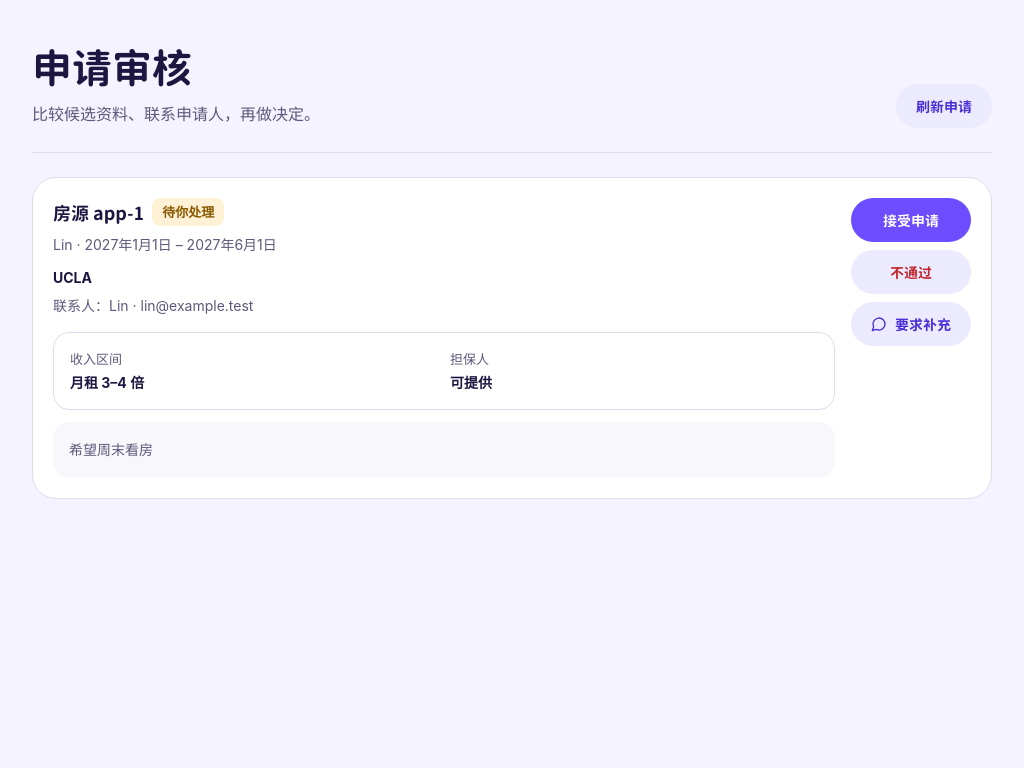
Test: keeps a successful reject visible when refreshing the list fails
Click the button "不通过" at (911, 272), box [851, 250, 971, 294]
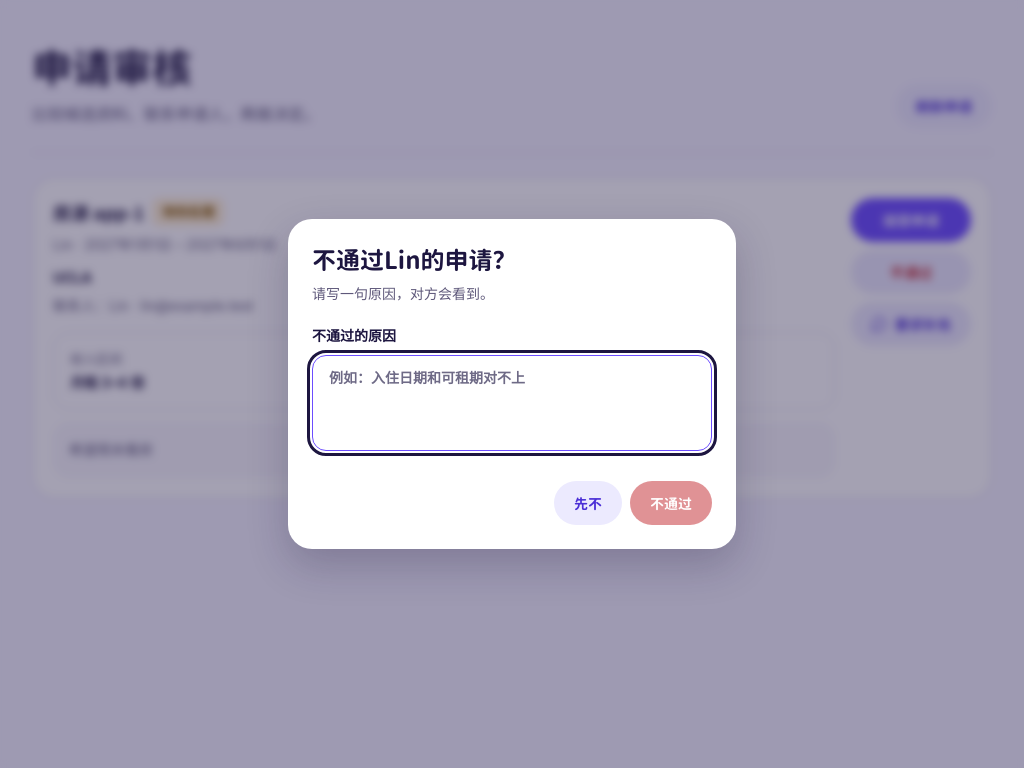
Type "入住时间不合适" into the text box at (512, 403), box [312, 355, 712, 451]
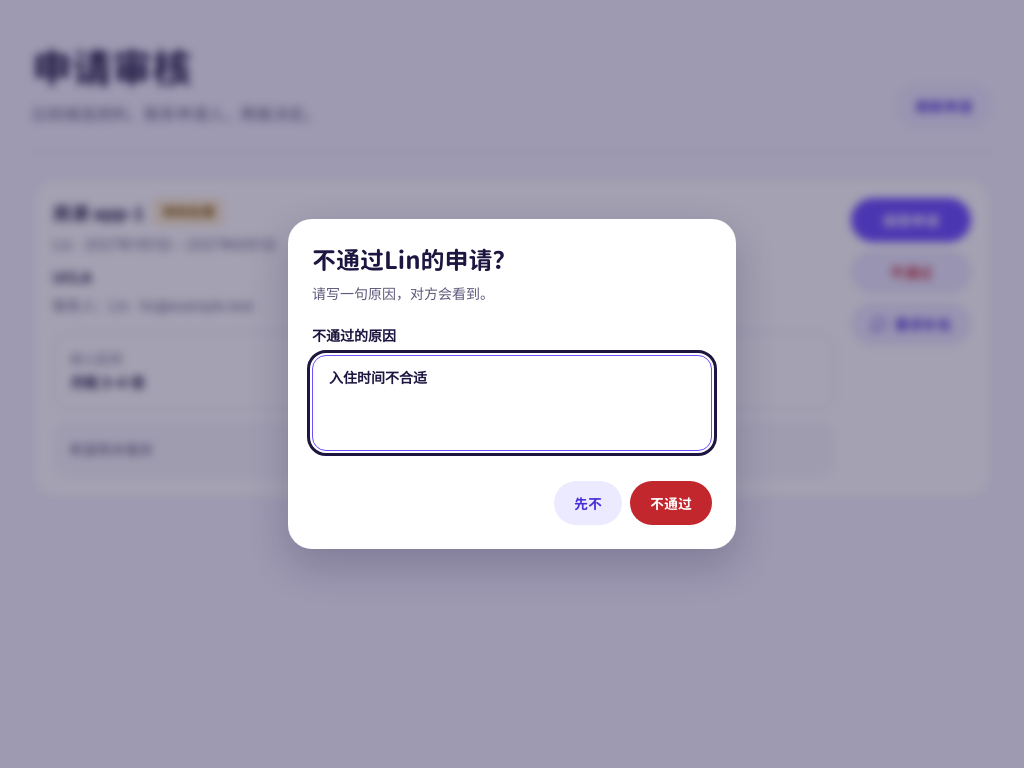
Click the button "不通过" at (671, 503), box [630, 481, 712, 525]
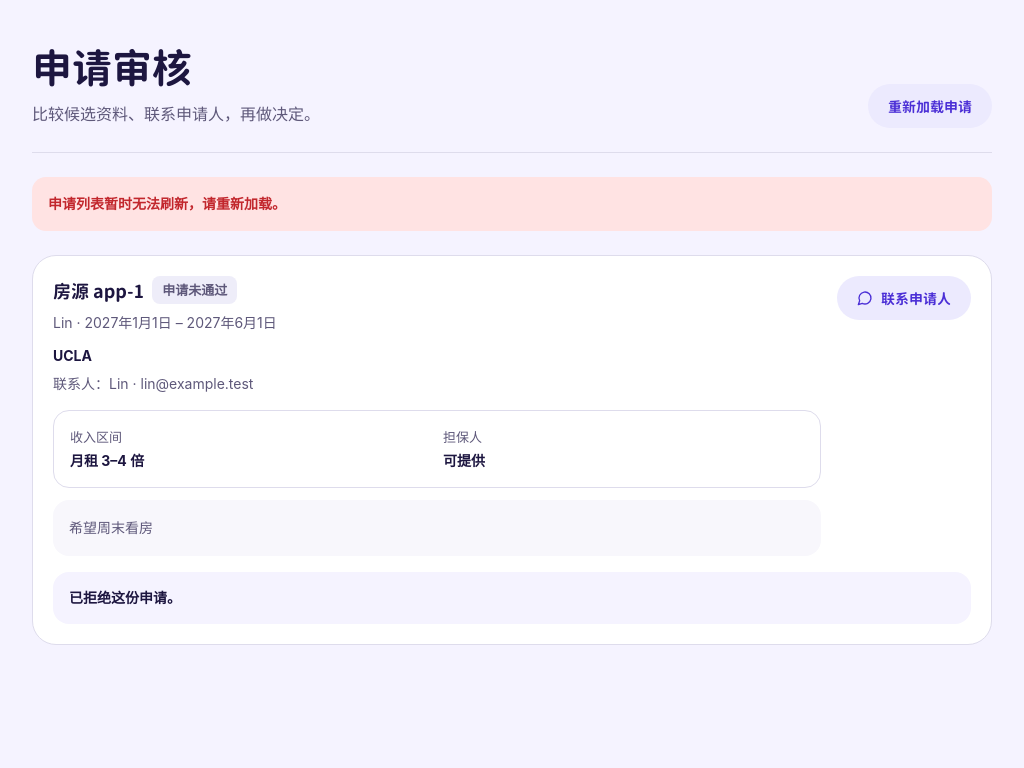
Now the text "申请未通过" is shown, box [152, 276, 237, 304]
Now the button "不通过" is gone
Now the button "重新加载申请" is shown, box [868, 84, 992, 128]
